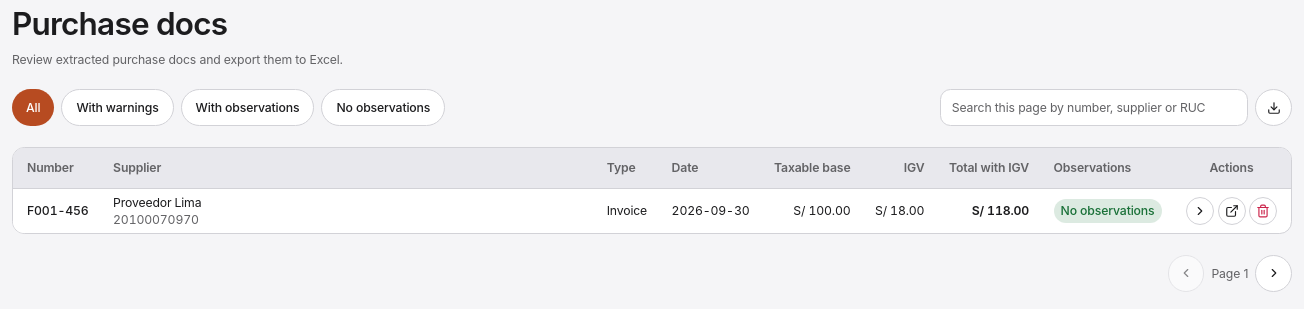
Test: renders headed rows and follows pagination
Check: the link "F001-456" is shown, box 27,203 -> 89,218
Check: the column heading "Actions" is shown, box 1174,148 -> 1291,188
Click the button named "Next": (1274, 274) 1255,255 -> 1292,292
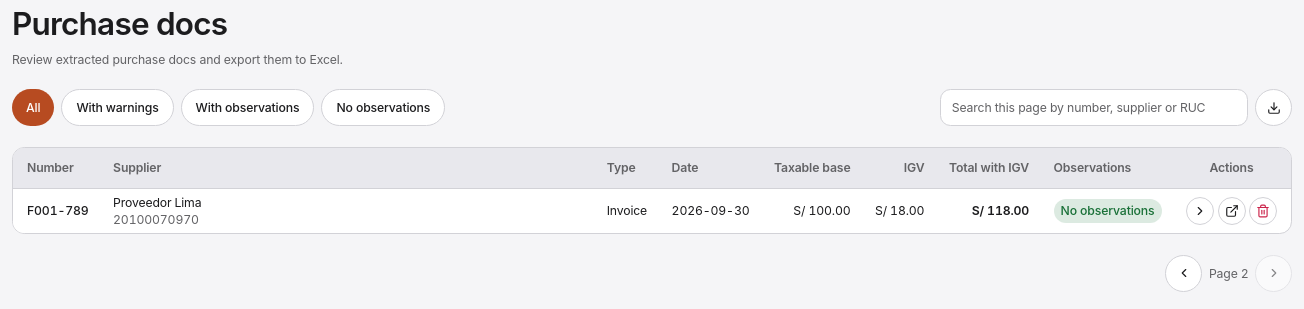
Check: the link "F001-789" is shown, box 27,203 -> 89,218
Check: the text "Page 2" is shown, box 1209,265 -> 1248,282
